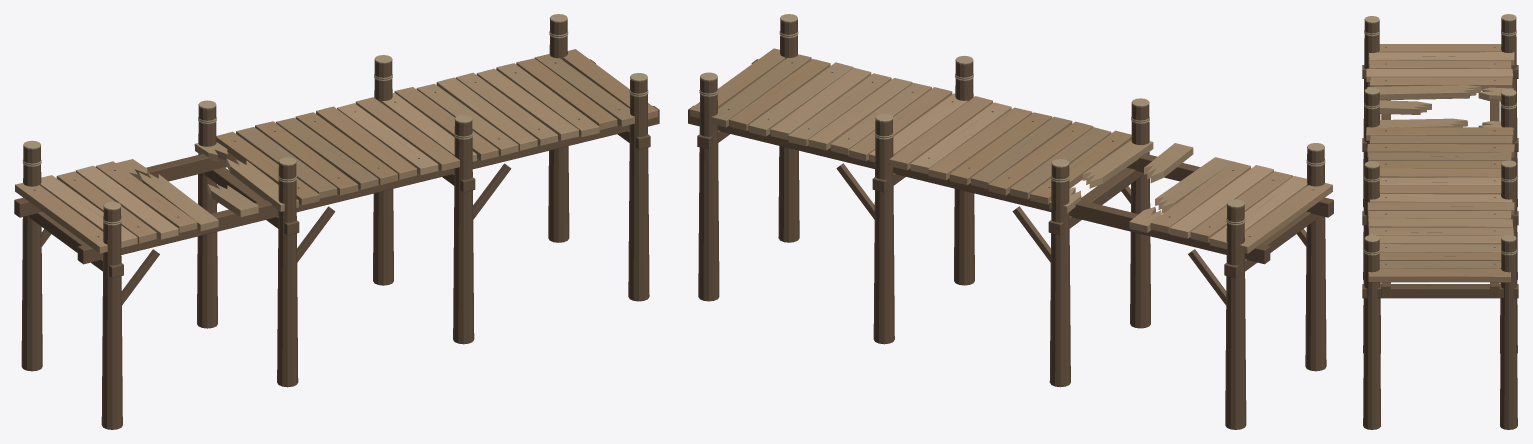
File: pier_broken_mcp.glb
The picture shows the model from 3 angles, left to right: view 1: azimuth 30°, elevation 25°; view 2: azimuth 150°, elevation 25°; view 3: azimuth 270°, elevation 25°; orthographic projection. The views are drawn at different scales.
Visible parts, largest first — view 1: Broken Long bearer -1, Broken WaterPile_-1_1, Broken WaterPile_-1_2, Broken WaterPile_-1_0, Broken WaterPile_-1_3, Broken WaterPile_1_0, Broken WaterPile_1_1, Broken WaterPile_1_2, Broken WaterPile_1_3, Broken Walkboard_00, Broken Walkboard_17, Broken Walkboard_03 (+26 smaller); view 2: Broken Long bearer 1, Broken WaterPile_1_2, Broken WaterPile_1_0, Broken WaterPile_1_1, Broken WaterPile_1_3, Broken WaterPile_-1_0, Broken WaterPile_-1_1, Broken WaterPile_-1_2, Broken WaterPile_-1_3, Broken Walkboard_00, Broken Walkboard_17, Broken Walkboard_21 (+26 smaller); view 3: Broken WaterPile_1_3, Broken WaterPile_-1_3, Broken Walkboard_27, Broken Cross bearer 3, Broken board 05 near fragment, Broken Walkboard_04, Broken Walkboard_03, Broken Walkboard_19, Broken Walkboard_10, Broken Walkboard_21, Broken Walkboard_11, Broken Walkboard_12 (+26 smaller).
Part boxes in pixels (x1,y1,x2,y2): Broken Long bearer -1: [77, 106, 659, 264]; Broken WaterPile_-1_1: [277, 163, 298, 387]; Broken WaterPile_-1_2: [453, 120, 474, 344]; Broken WaterPile_-1_0: [101, 207, 122, 429]; Broken WaterPile_-1_3: [628, 78, 649, 301]; Broken WaterPile_1_0: [21, 146, 42, 371]; Broken WaterPile_1_1: [197, 106, 217, 328]; Broken WaterPile_1_2: [373, 60, 393, 285]; Broken WaterPile_1_3: [548, 19, 569, 242]; Broken Walkboard_00: [15, 183, 107, 253]; Broken Walkboard_17: [355, 97, 459, 170]; Broken Walkboard_03: [75, 165, 178, 239]; Broken Long bearer 1: [688, 105, 1270, 264]; Broken WaterPile_1_2: [873, 119, 894, 344]; Broken WaterPile_1_0: [1225, 205, 1246, 429]; Broken WaterPile_1_1: [1049, 164, 1070, 387]; Broken WaterPile_1_3: [698, 78, 719, 301]; Broken WaterPile_-1_0: [1305, 148, 1326, 371]; Broken WaterPile_-1_1: [1130, 104, 1150, 328]; Broken WaterPile_-1_2: [954, 61, 974, 285]; Broken WaterPile_-1_3: [778, 19, 799, 242]; Broken Walkboard_00: [1239, 183, 1332, 253]; Broken Walkboard_17: [889, 96, 992, 170]; Broken Walkboard_21: [808, 78, 912, 150]; Broken WaterPile_1_3: [1500, 239, 1517, 429]; Broken WaterPile_-1_3: [1363, 239, 1380, 429]; Broken Walkboard_27: [1368, 268, 1510, 282]; Broken Cross bearer 3: [1362, 284, 1518, 298]; Broken board 05 near fragment: [1367, 85, 1481, 100]; Broken Walkboard_04: [1369, 77, 1512, 90]; Broken Walkboard_03: [1366, 68, 1512, 82]; Broken Walkboard_19: [1367, 202, 1514, 215]; Broken Walkboard_10: [1366, 127, 1513, 140]; Broken Walkboard_21: [1368, 218, 1512, 228]; Broken Walkboard_11: [1369, 135, 1512, 144]; Broken Walkboard_12: [1367, 144, 1514, 157].
Bounding box in the file's own units: 8.06 × 2.97 × 2.22.
